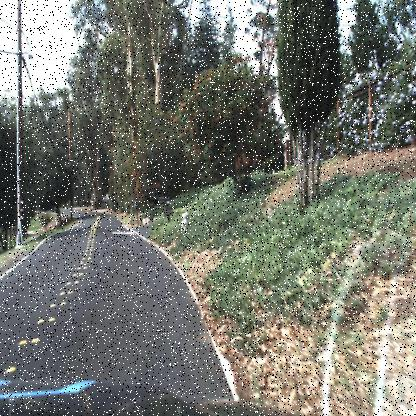car: (98, 186, 112, 211)
